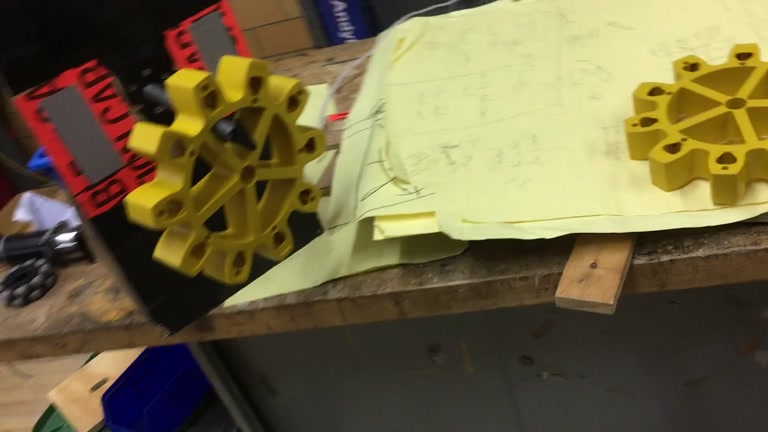gear: (123, 54, 328, 285), (622, 42, 767, 206)
